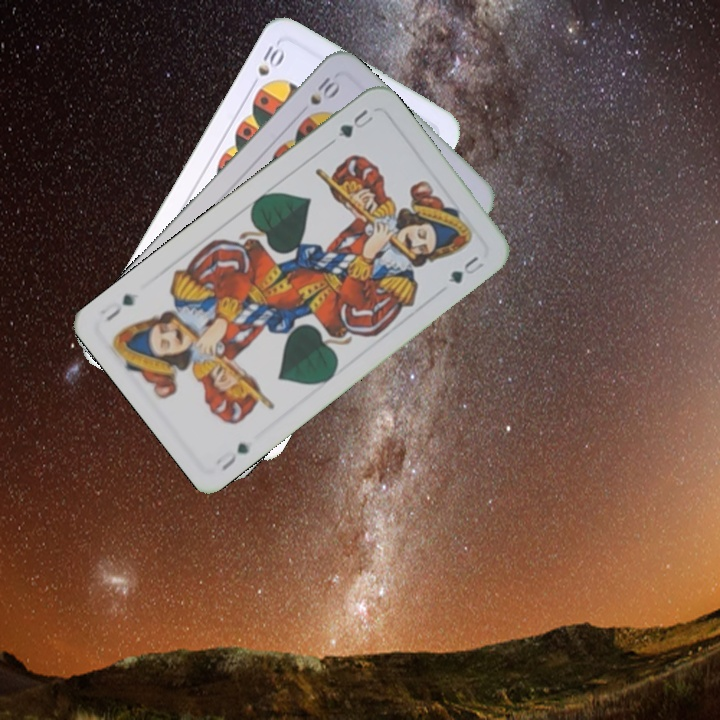GU: (333, 105, 376, 141), (211, 438, 252, 474)
S10: (246, 39, 287, 92), (305, 72, 341, 108)
